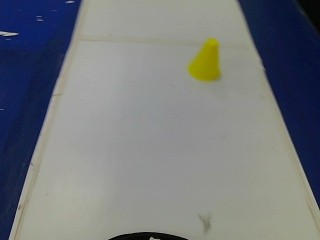cone: (183, 37, 225, 81)
